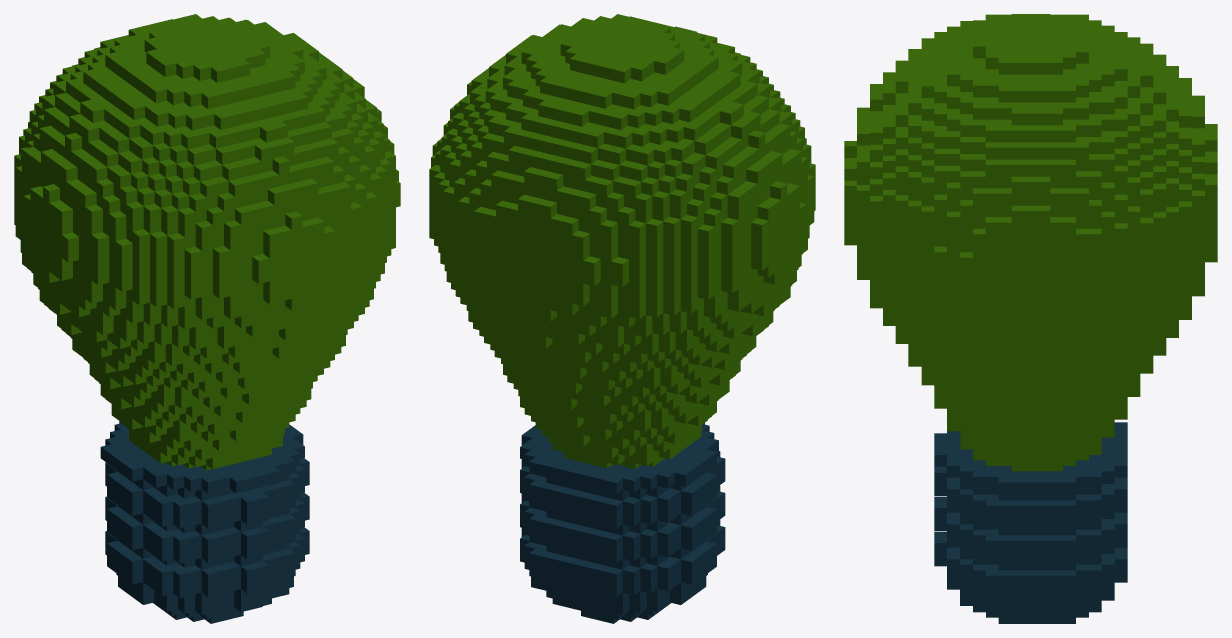
File: area_sistemasinteractivos_01.gltf
3 renders of one model, left to right at view 1: azimuth 30°, elevation 25°; view 2: azimuth 150°, elevation 25°; view 3: azimuth 270°, elevation 25°, orthographic. The views are drawn at different scales.
Visible parts, largest first — view 1: bombillobox-0-Bombillo, bombillobox-0-Bombillo.001; view 2: bombillobox-0-Bombillo, bombillobox-0-Bombillo.001; view 3: bombillobox-0-Bombillo, bombillobox-0-Bombillo.001.
Boxes of the visible parts, bbox=[...] form: bombillobox-0-Bombillo: bbox=[14, 14, 400, 470]; bombillobox-0-Bombillo.001: bbox=[100, 421, 309, 623]; bombillobox-0-Bombillo: bbox=[429, 14, 815, 468]; bombillobox-0-Bombillo.001: bbox=[520, 423, 725, 623]; bombillobox-0-Bombillo: bbox=[844, 14, 1217, 471]; bombillobox-0-Bombillo.001: bbox=[934, 422, 1127, 623].
Bounding box in the file's own units: 2.9 × 4.85 × 2.9.
